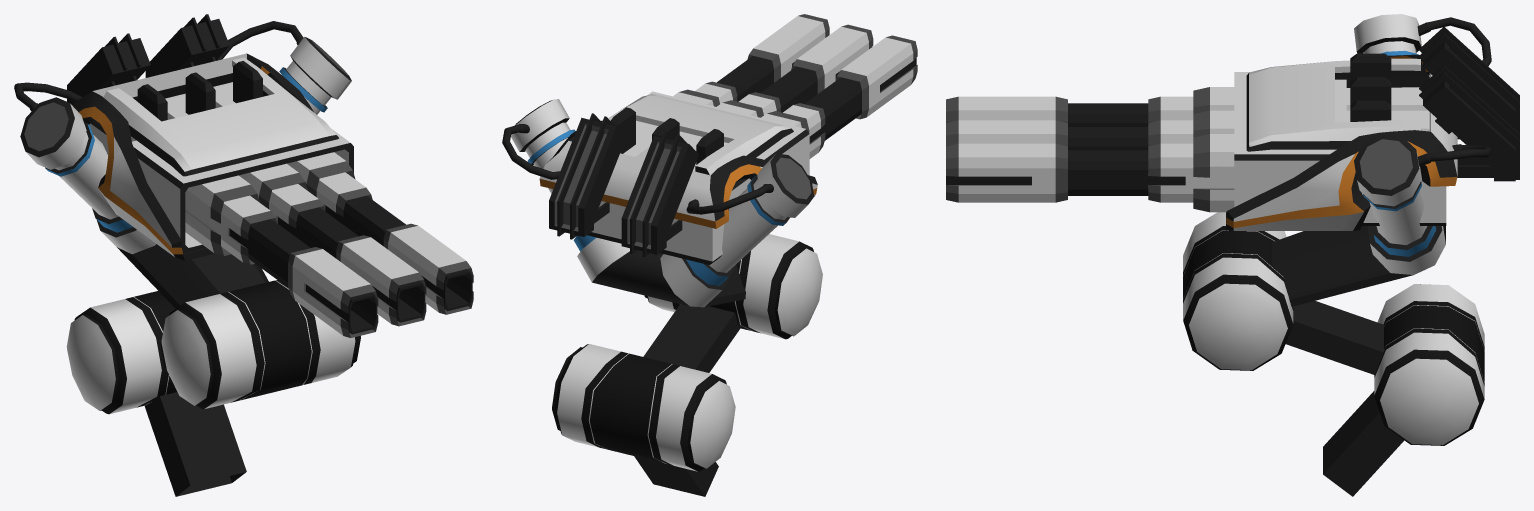
The model's file is tower_cannon_upgrade2_asset.fbx.
The picture shows the model from 3 angles, left to right: view 1: azimuth 30°, elevation 25°; view 2: azimuth 150°, elevation 25°; view 3: azimuth 270°, elevation 25°; orthographic projection. The views are drawn at different scales.
Visible parts, largest first — view 1: cannon_top1, cannon_bottom; view 2: cannon_top1, cannon_bottom; view 3: cannon_top1, cannon_bottom.
Boxes of the visible parts, x1,y1,x2,y2 form: cannon_top1: (14, 14, 473, 409); cannon_bottom: (66, 291, 246, 496); cannon_top1: (502, 14, 917, 339); cannon_bottom: (552, 304, 741, 496); cannon_top1: (946, 14, 1519, 370); cannon_bottom: (1286, 284, 1484, 496).
Size of the model in its own units: 43.14 by 55.48 by 66.42.
